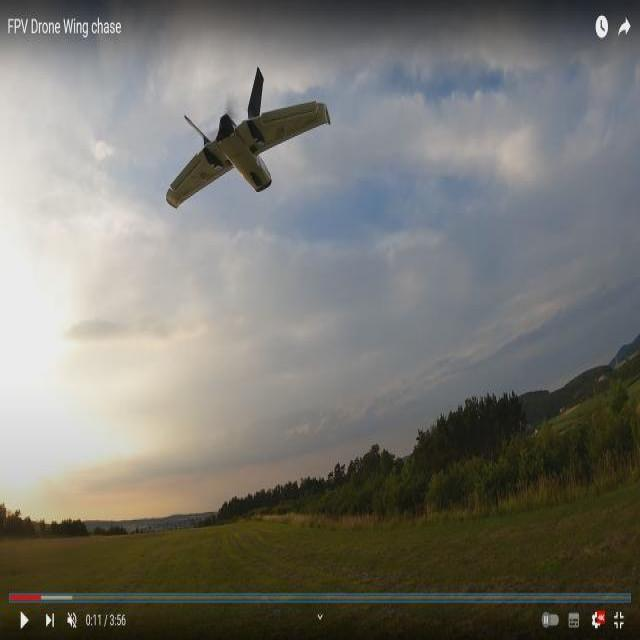UAV: (170, 75, 357, 194)
